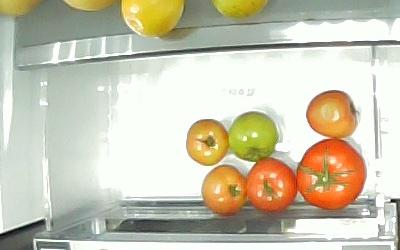tomato: (295, 137, 366, 210), (244, 155, 298, 213), (305, 89, 359, 138), (227, 110, 278, 161), (200, 163, 248, 215), (185, 117, 229, 165)
